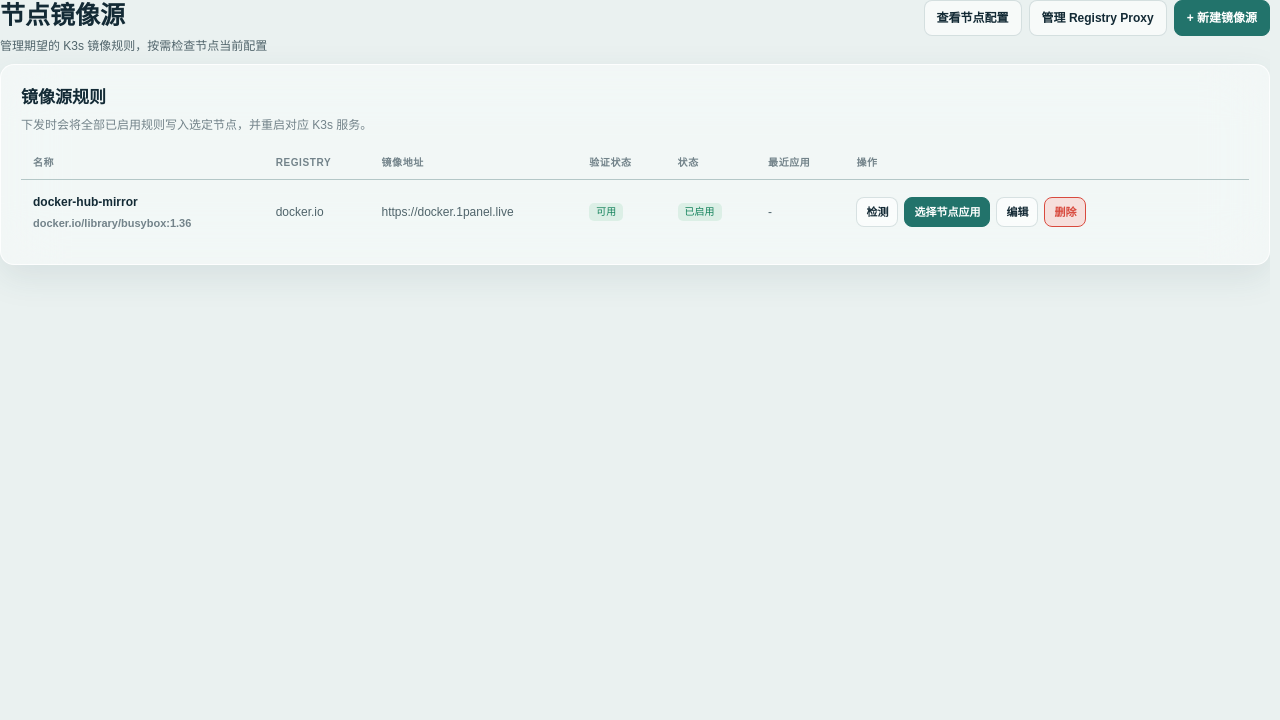
Node registry mirrors view › shows a confirmation dialog after saving a mirror
Click the button with test id "edit-node-registry-mirror-1" at (1017, 212), box [996,197,1038,227]
(page scrolled)
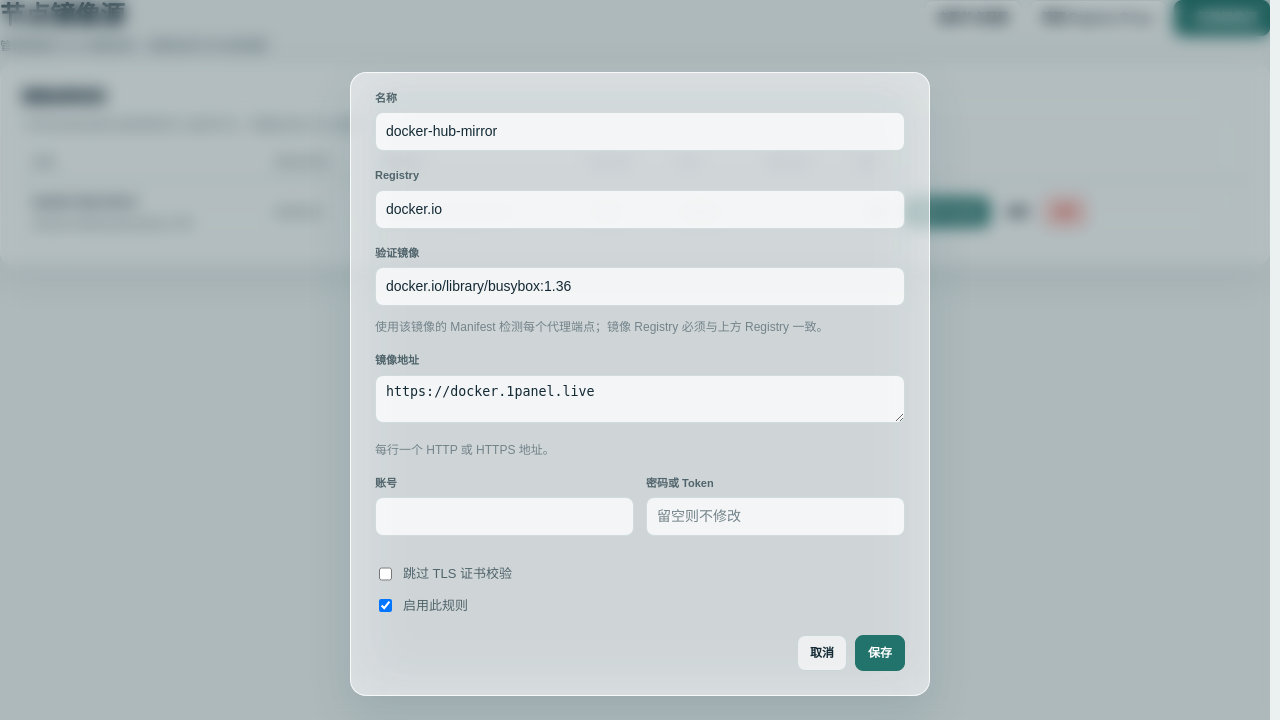
Click the button "保存" at (880, 653), box [855,635,905,671]
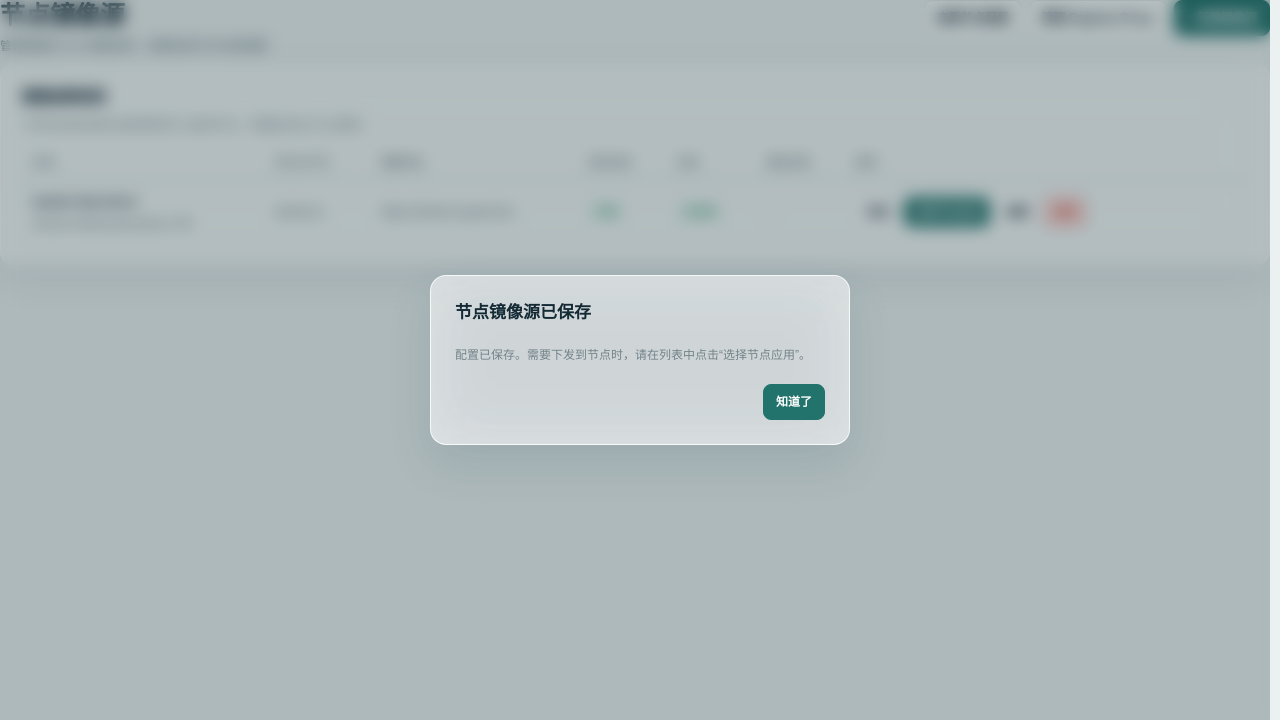
Now the dialog with class "mirror-notice-modal" is shown, box [430,275,850,445]
Now the dialog with class "mirror-notice-modal" shows "节点镜像源已保存", box [455,303,591,322]
